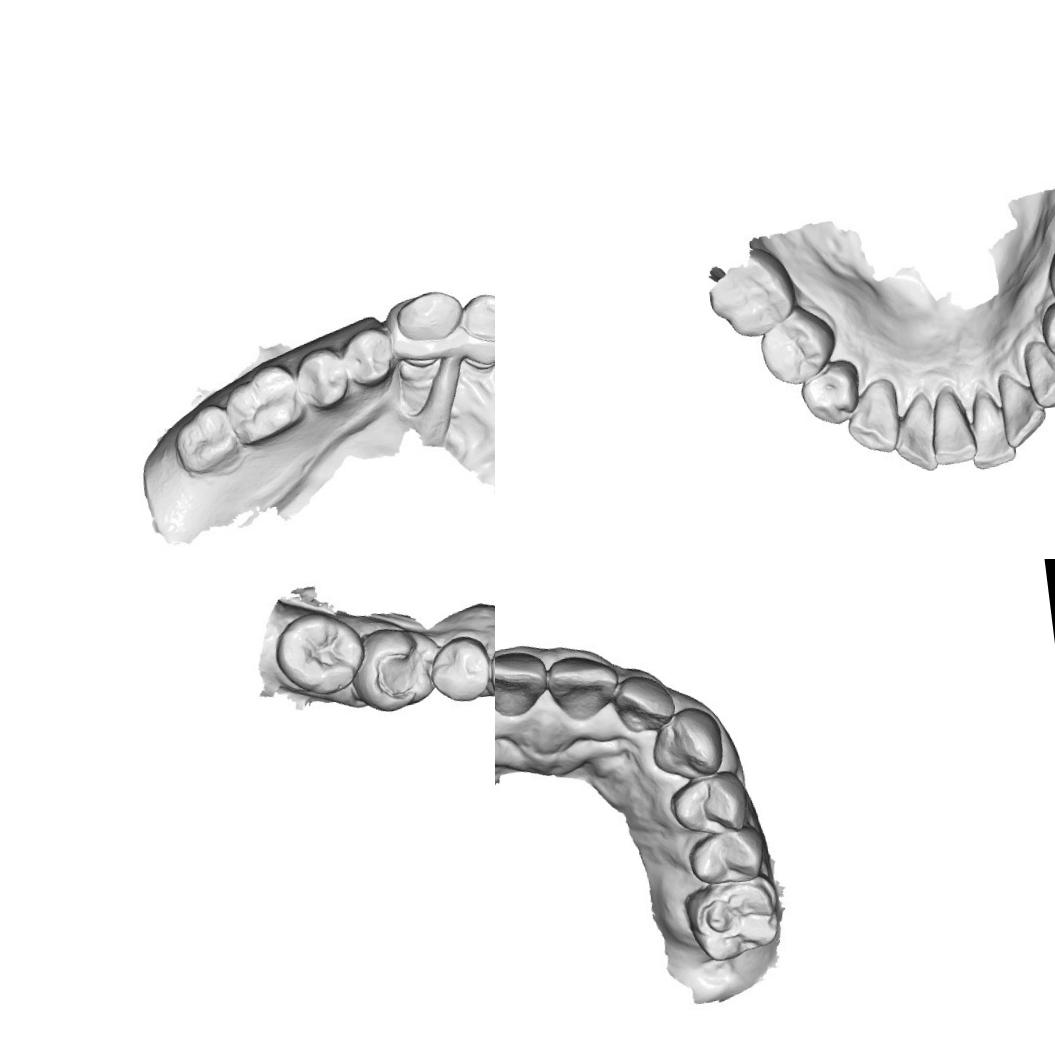canine: (651, 706, 726, 784), (389, 282, 464, 350), (839, 368, 900, 449), (1016, 332, 1055, 407)
incisor: (544, 643, 620, 730), (890, 382, 950, 470), (924, 380, 984, 467), (612, 668, 678, 742), (495, 646, 552, 727), (990, 369, 1050, 445), (965, 386, 1017, 471), (461, 284, 495, 355)
molar: (698, 244, 802, 344), (686, 872, 786, 966), (273, 602, 365, 694), (358, 624, 442, 714), (224, 358, 308, 440), (176, 404, 241, 478)
premolar: (755, 306, 837, 390), (670, 766, 750, 842), (689, 822, 768, 889), (426, 632, 494, 702), (798, 356, 864, 426), (340, 324, 402, 394), (295, 340, 349, 412), (1038, 298, 1055, 370)
